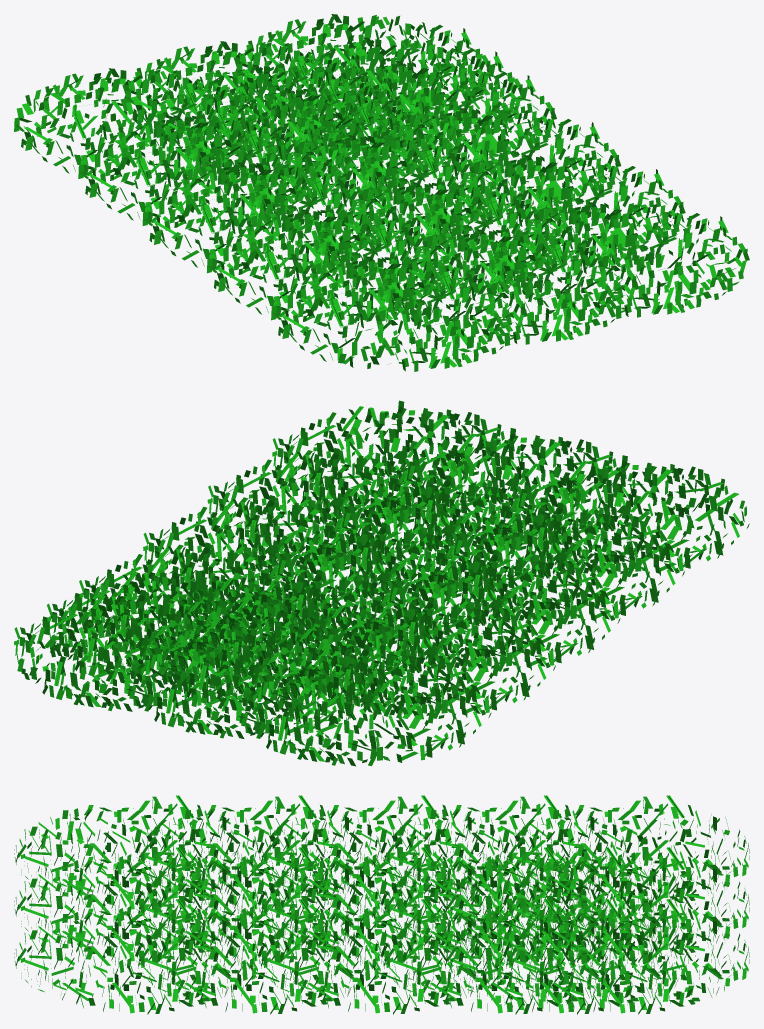
File: grass2.glb
3 renders of one model, top to bottom at view 1: azimuth 30°, elevation 25°; view 2: azimuth 150°, elevation 25°; view 3: azimuth 270°, elevation 25°, orthographic. The views are drawn at different scales.
Visible parts, largest first — view 1: Trava Kolosok.003, Trava Kolosok.006, Trava Kolosok.005, Trava Kolosok.004, Trava Kolosok.013, Trava Kolosok.012, Trava Kolosok.017, Trava Kolosok.007, Trava Kolosok.001, Trava Kolosok.016, Trava Kolosok.002, Trava Kolosok.015 (+5 smaller); view 2: Trava Kolosok.003, Trava Kolosok.005, Trava Kolosok.006, Trava Kolosok.013, Trava Kolosok.012, Trava Kolosok.001, Trava Kolosok.007, Trava Kolosok.017, Trava Kolosok.004, Trava Kolosok.016, Trava Kolosok.002, Trava Kolosok.015 (+5 smaller); view 3: Trava Kolosok.006, Trava Kolosok.003, Trava Kolosok.005, Trava Kolosok.017, Trava Kolosok.004, Trava Kolosok.016, Trava Kolosok.013, Trava Kolosok.012, Trava Kolosok.001, Trava Kolosok.007, Trava Kolosok.009, Trava Kolosok.015 (+5 smaller).
Part boxes in pixels (bbox=[...]): Trava Kolosok.003: bbox=[271, 256, 525, 371]; Trava Kolosok.006: bbox=[494, 202, 749, 317]; Trava Kolosok.005: bbox=[14, 68, 268, 183]; Trava Kolosok.004: bbox=[382, 229, 636, 344]; Trava Kolosok.013: bbox=[207, 209, 461, 324]; Trava Kolosok.012: bbox=[142, 162, 396, 277]; Trava Kolosok.017: bbox=[429, 155, 685, 270]; Trava Kolosok.007: bbox=[78, 115, 331, 230]; Trava Kolosok.001: bbox=[237, 14, 490, 126]; Trava Kolosok.016: bbox=[365, 108, 621, 223]; Trava Kolosok.002: bbox=[125, 41, 379, 153]; Trava Kolosok.015: bbox=[318, 182, 572, 297]; Trava Kolosok.003: bbox=[496, 455, 749, 576]; Trava Kolosok.005: bbox=[237, 644, 491, 766]; Trava Kolosok.006: bbox=[272, 400, 523, 521]; Trava Kolosok.013: bbox=[431, 502, 684, 624]; Trava Kolosok.012: bbox=[366, 549, 620, 671]; Trava Kolosok.001: bbox=[14, 589, 264, 711]; Trava Kolosok.007: bbox=[302, 597, 555, 718]; Trava Kolosok.017: bbox=[207, 448, 458, 569]; Trava Kolosok.004: bbox=[384, 428, 635, 549]; Trava Kolosok.016: bbox=[143, 495, 393, 616]; Trava Kolosok.002: bbox=[126, 617, 376, 738]; Trava Kolosok.015: bbox=[319, 475, 570, 596]; Trava Kolosok.006: bbox=[14, 899, 259, 1014]; Trava Kolosok.003: bbox=[14, 795, 259, 909]; Trava Kolosok.005: bbox=[504, 795, 749, 910]; Trava Kolosok.017: bbox=[136, 899, 381, 1014]; Trava Kolosok.004: bbox=[14, 847, 259, 961]; Trava Kolosok.016: bbox=[259, 899, 504, 1014]; Trava Kolosok.013: bbox=[136, 795, 381, 909]; Trava Kolosok.012: bbox=[259, 795, 504, 909]; Trava Kolosok.001: bbox=[504, 899, 749, 1014]; Trava Kolosok.007: bbox=[382, 795, 627, 908]; Trava Kolosok.009: bbox=[382, 899, 627, 1014]; Trava Kolosok.015: bbox=[136, 847, 381, 962].
Bounding box in the file's own units: 4 × 0.15 × 6.
